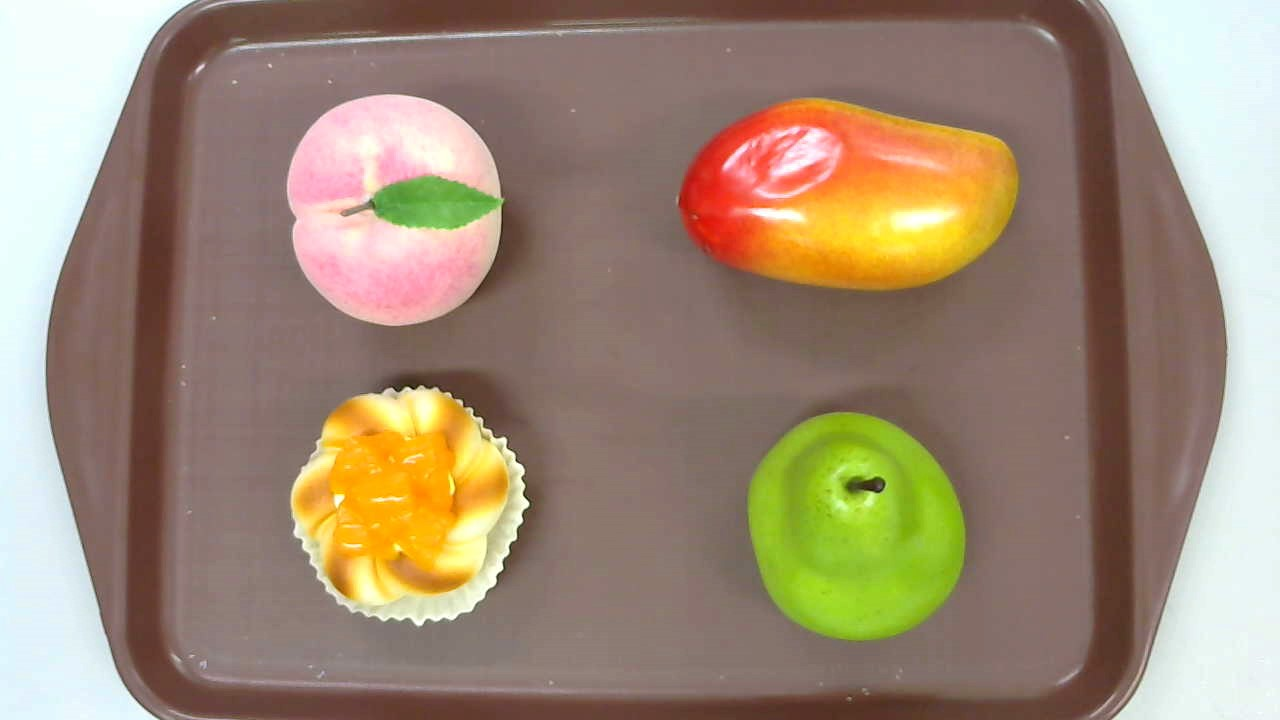green pear: (747, 410, 966, 638)
mango tart: (290, 383, 530, 627)
peach: (286, 93, 503, 329)
red mango: (674, 97, 1019, 293)
